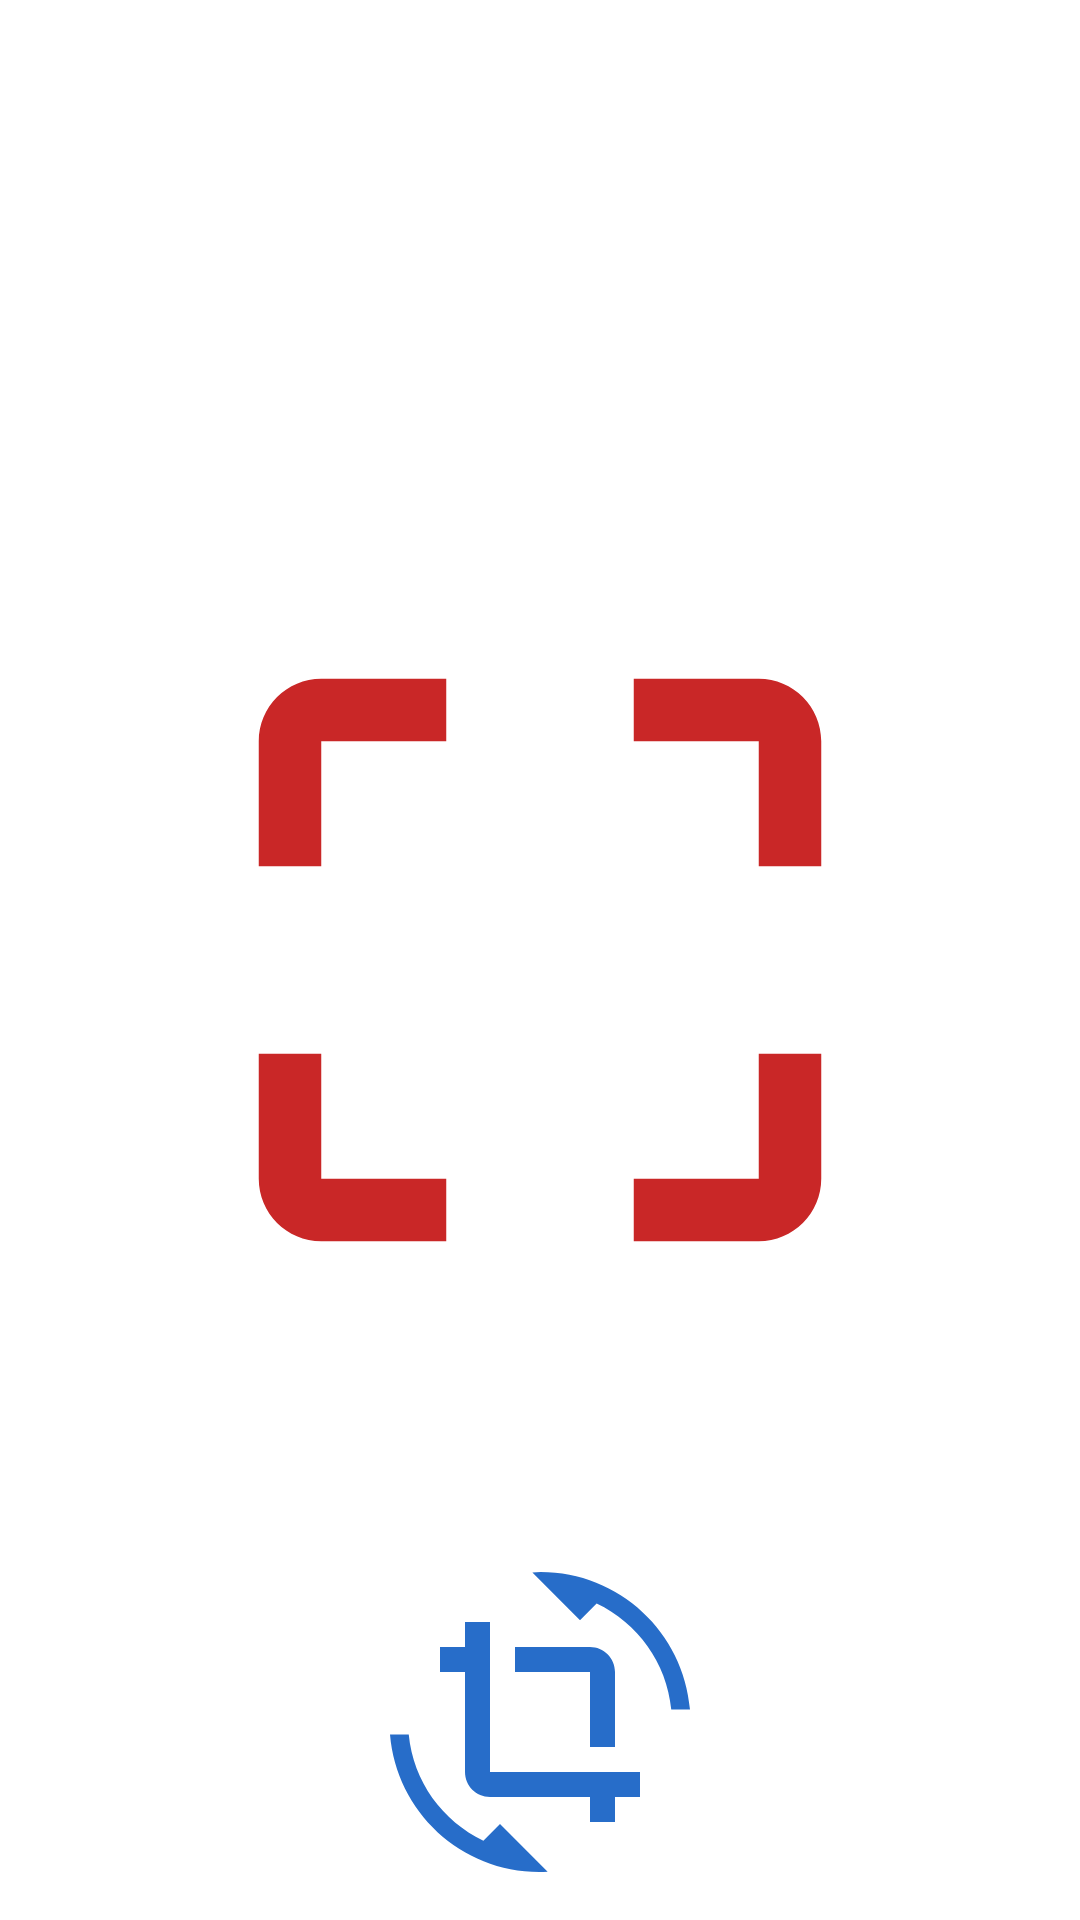

Named icons in this screenshot (1080x1920) and their bounding boxes, (x1, y1, x2, y2):
crop rotate: (390, 1572, 690, 1872)
